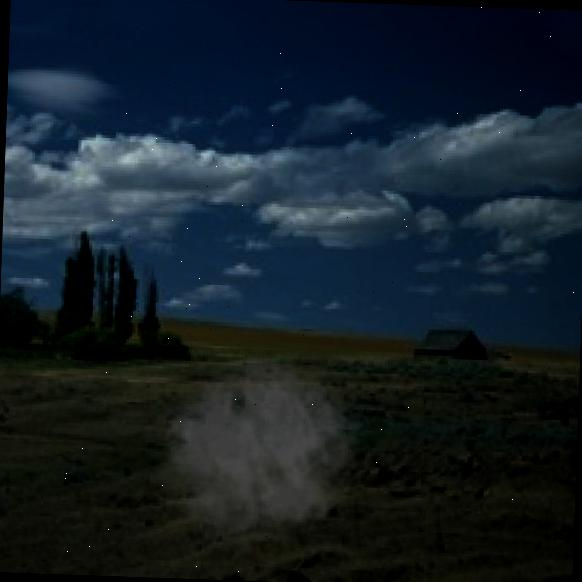smoke: (141, 351, 365, 563)
